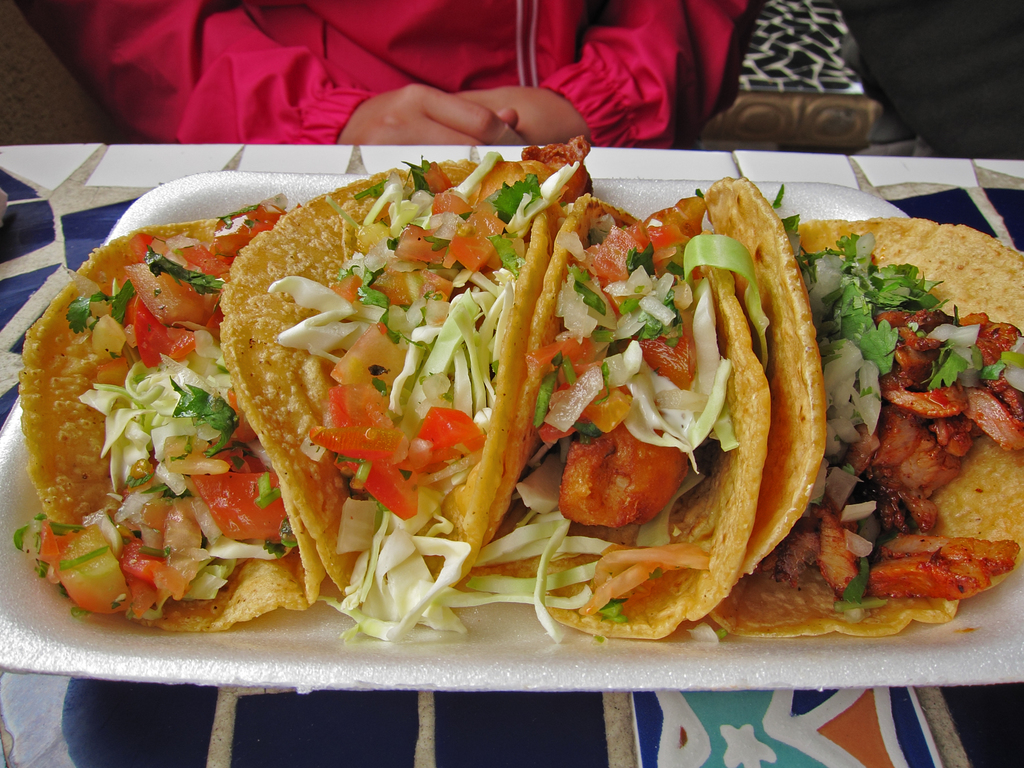taco: (212, 150, 556, 625), (702, 177, 1023, 637), (503, 186, 780, 638), (18, 195, 309, 620)
